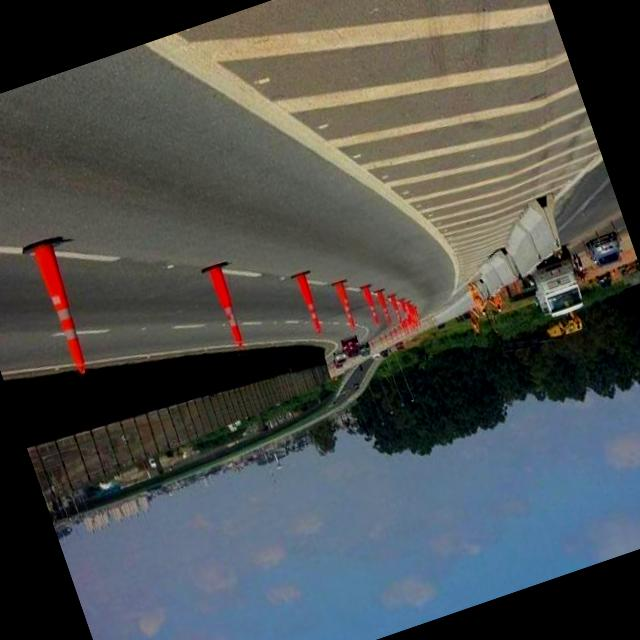cone: (12, 230, 104, 385), (192, 260, 251, 351), (285, 268, 328, 338)
